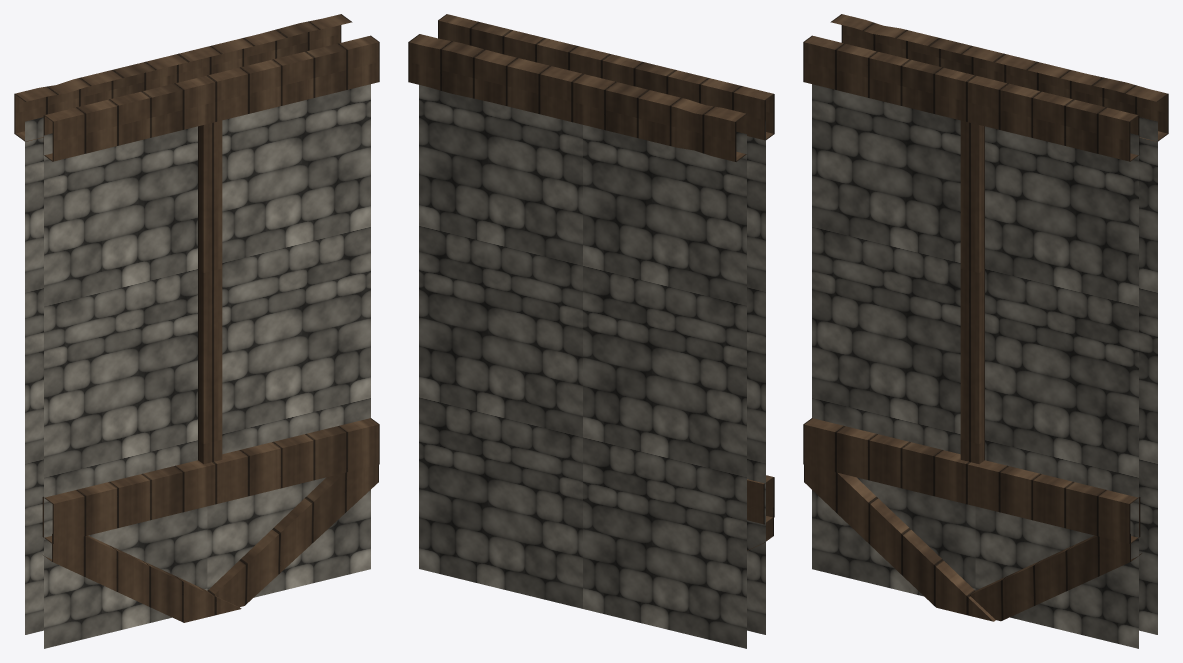
The model's file is Wall_DryStone_Straight_LOD2.gltf.
3 renders of one model, left to right at view 1: azimuth 30°, elevation 25°; view 2: azimuth 150°, elevation 25°; view 3: azimuth 330°, elevation 25°, orthographic.
Visible parts, largest first — view 1: Wall_DryStone_Straight_LOD2; view 2: Wall_DryStone_Straight_LOD2; view 3: Wall_DryStone_Straight_LOD2.
Boxes of the visible parts, x1,y1,x2,y2 form: Wall_DryStone_Straight_LOD2: [14, 14, 379, 648]; Wall_DryStone_Straight_LOD2: [408, 14, 774, 648]; Wall_DryStone_Straight_LOD2: [803, 14, 1168, 648].
Bounding box in the file's own units: 2 × 3.12 × 0.406.
Materials: 2 (2 with a texture image).
